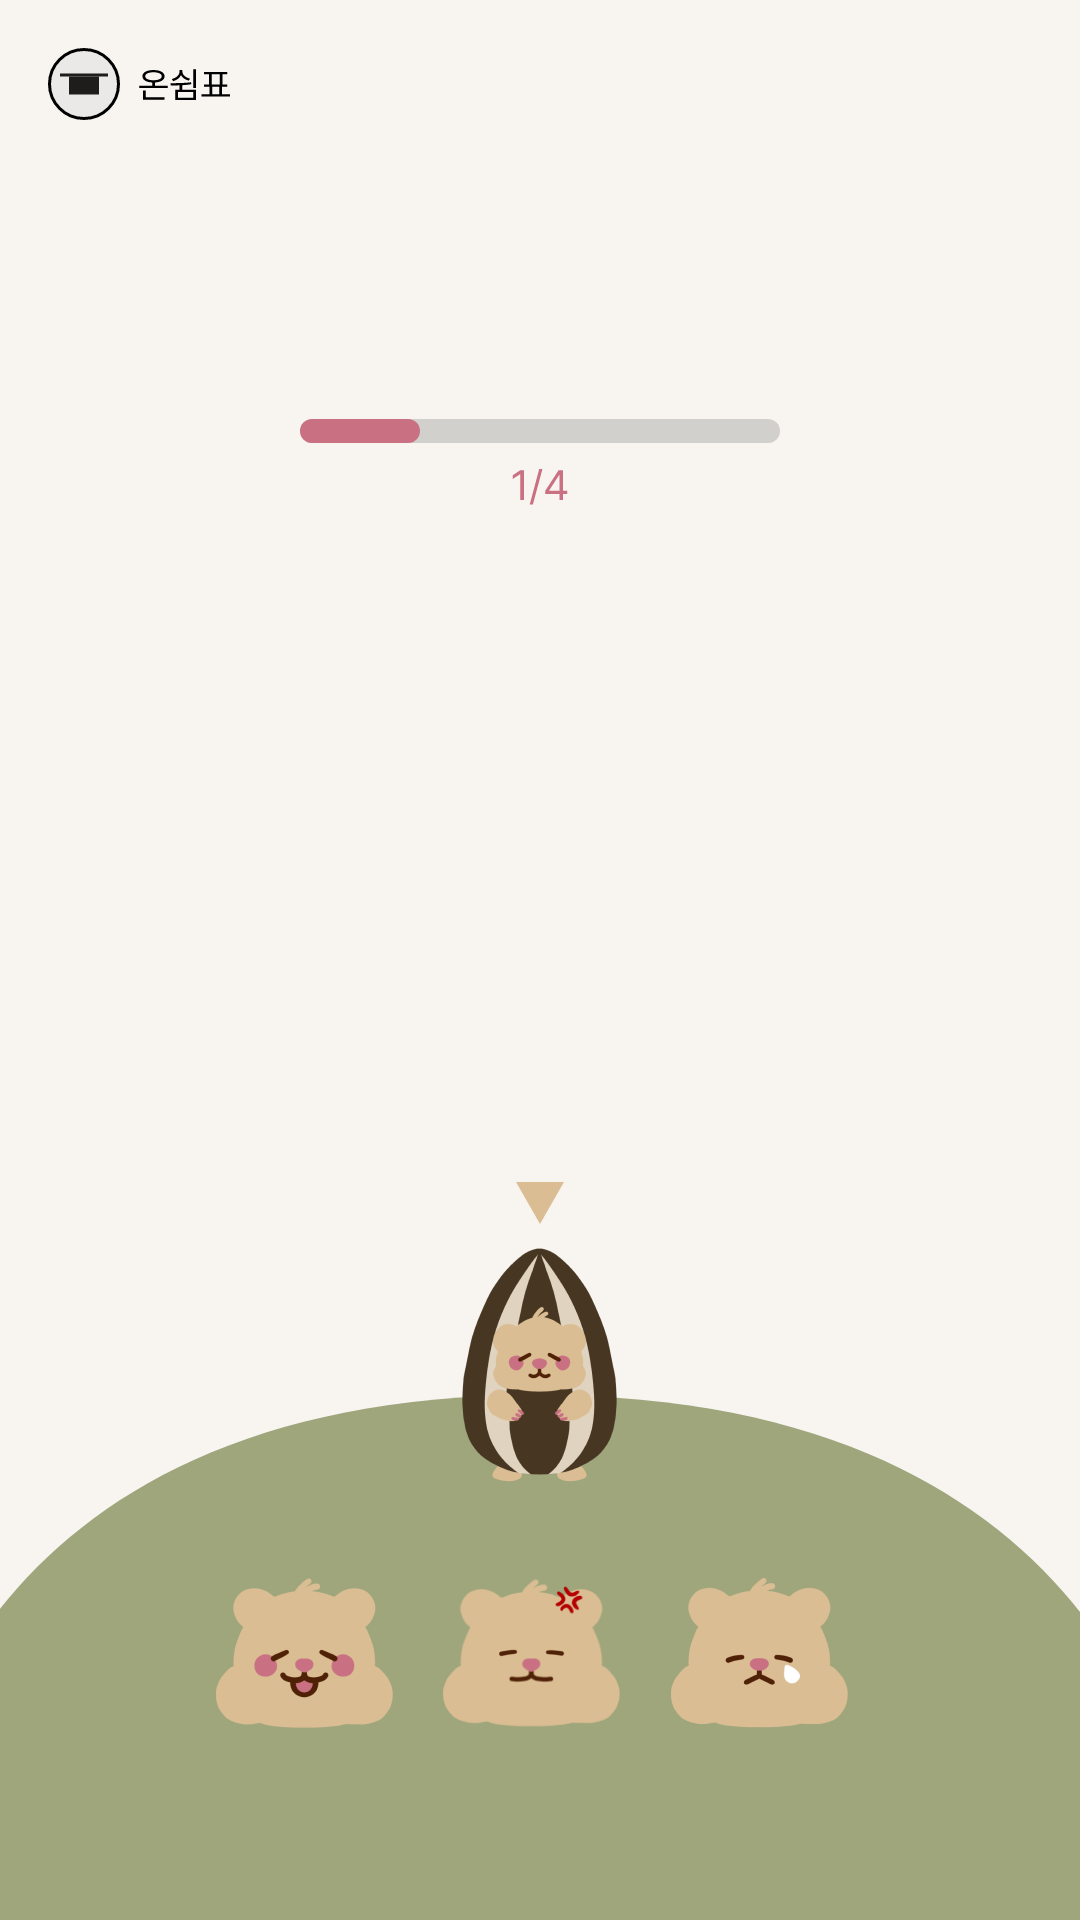

Icon bounding boxes for this 1080 x 1920 phone screenshot, format region(x1, y1, x2, y2):
angryface: region(443, 1579, 620, 1726)
happyface: region(216, 1578, 393, 1728)
sadface: region(671, 1578, 848, 1727)
